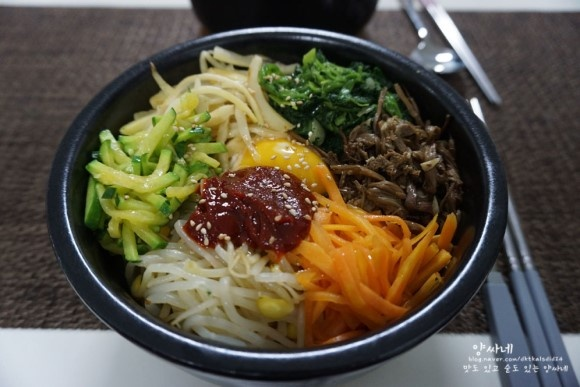비빔밥: (71, 41, 392, 299)
